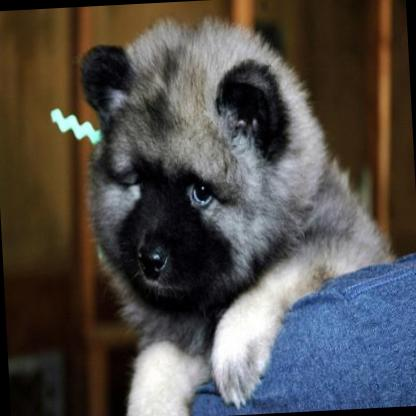keeshond: (74, 7, 398, 416)
